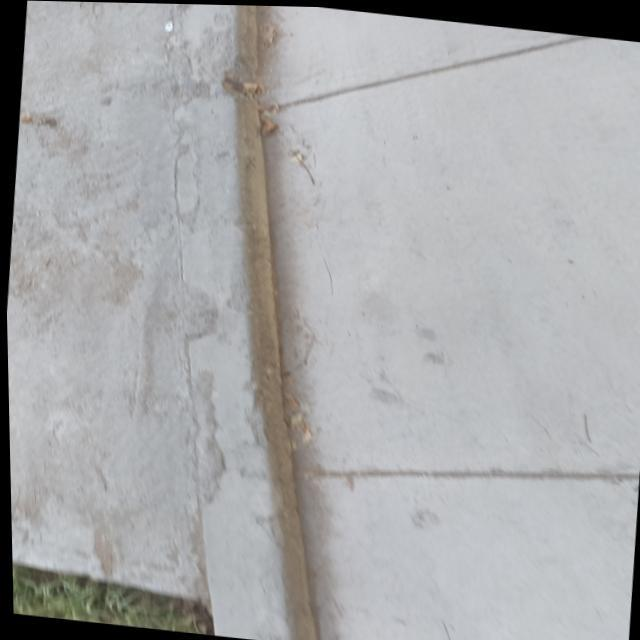bump: (170, 19, 314, 458)
